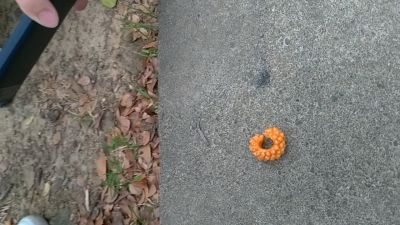eggs: (246, 126, 289, 164)
